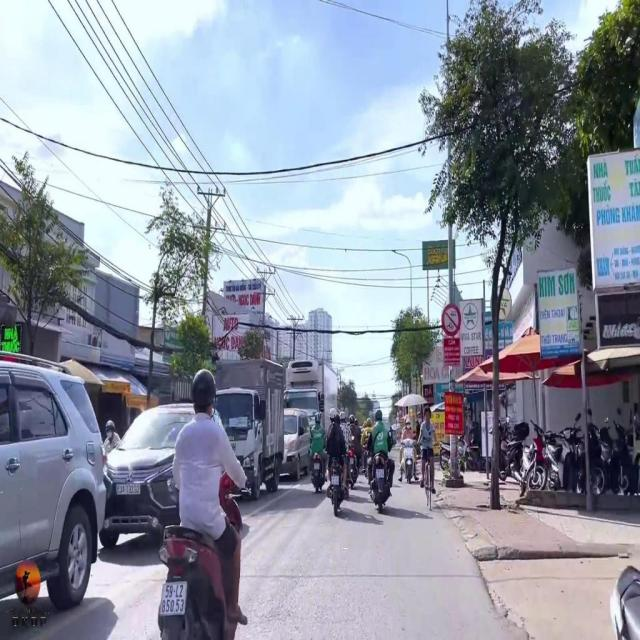cam_cac_loai_xe_3_banh: (442, 303, 461, 336)
